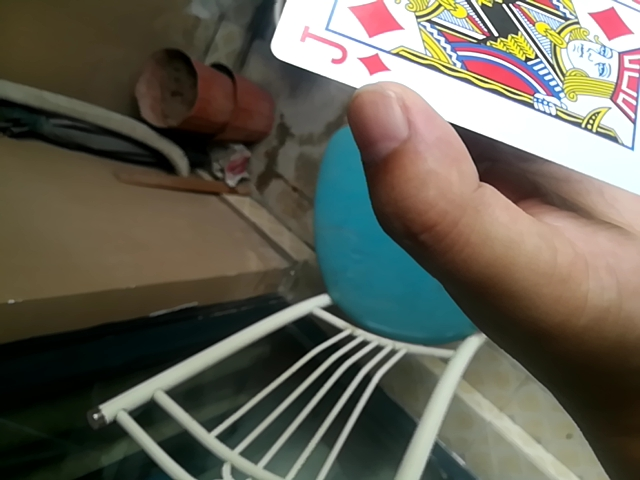fk j: (260, 3, 636, 222)
